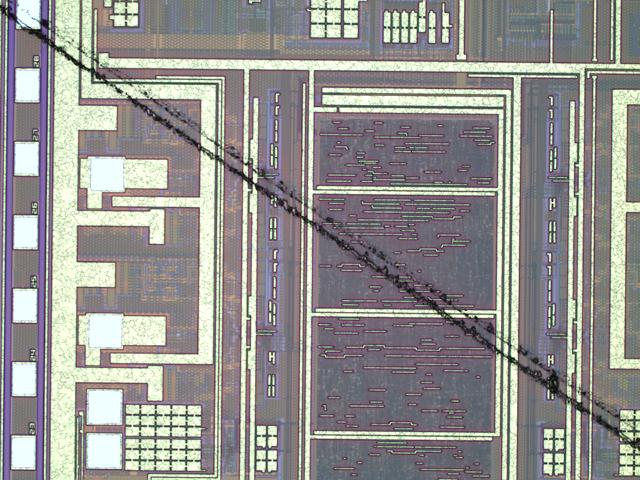SCRATCH: (1, 1, 640, 463)
